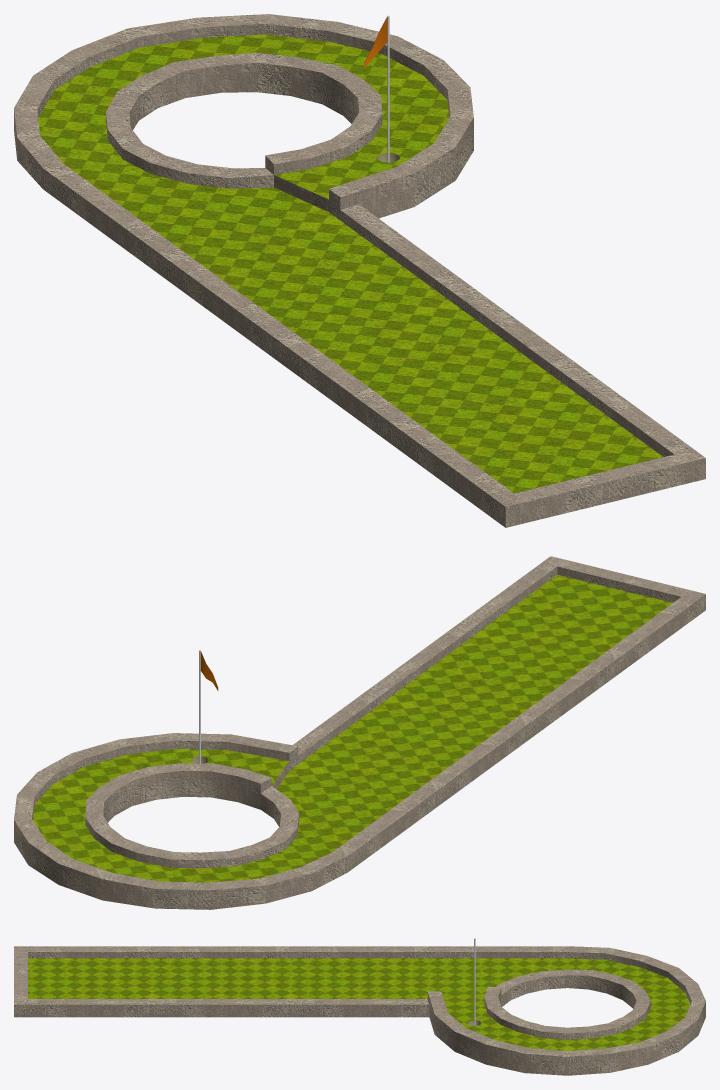
The model's file is course4_hole7.fbx.
The picture shows the model from 3 angles, top to bottom: view 1: azimuth 30°, elevation 25°; view 2: azimuth 150°, elevation 25°; view 3: azimuth 270°, elevation 25°; orthographic projection. The views are drawn at different scales.
Parts seen in each view (by area): view 1: course4_hole7_ground, course4_hole7_walls, course4_hole7_flag; view 2: course4_hole7_ground, course4_hole7_walls; view 3: course4_hole7_walls, course4_hole7_ground.
Part boxes in pixels (left/top/right/bottom): course4_hole7_ground: left=38, top=34, right=662, bottom=493; course4_hole7_walls: left=14, top=14, right=705, bottom=527; course4_hole7_flag: left=364, top=15, right=389, bottom=162; course4_hole7_ground: left=33, top=574, right=672, bottom=882; course4_hole7_walls: left=14, top=556, right=705, bottom=909; course4_hole7_walls: left=14, top=946, right=705, bottom=1075; course4_hole7_ground: left=28, top=958, right=690, bottom=1050.
Bounding box in the file's own units: 200 × 78.54 × 500.
